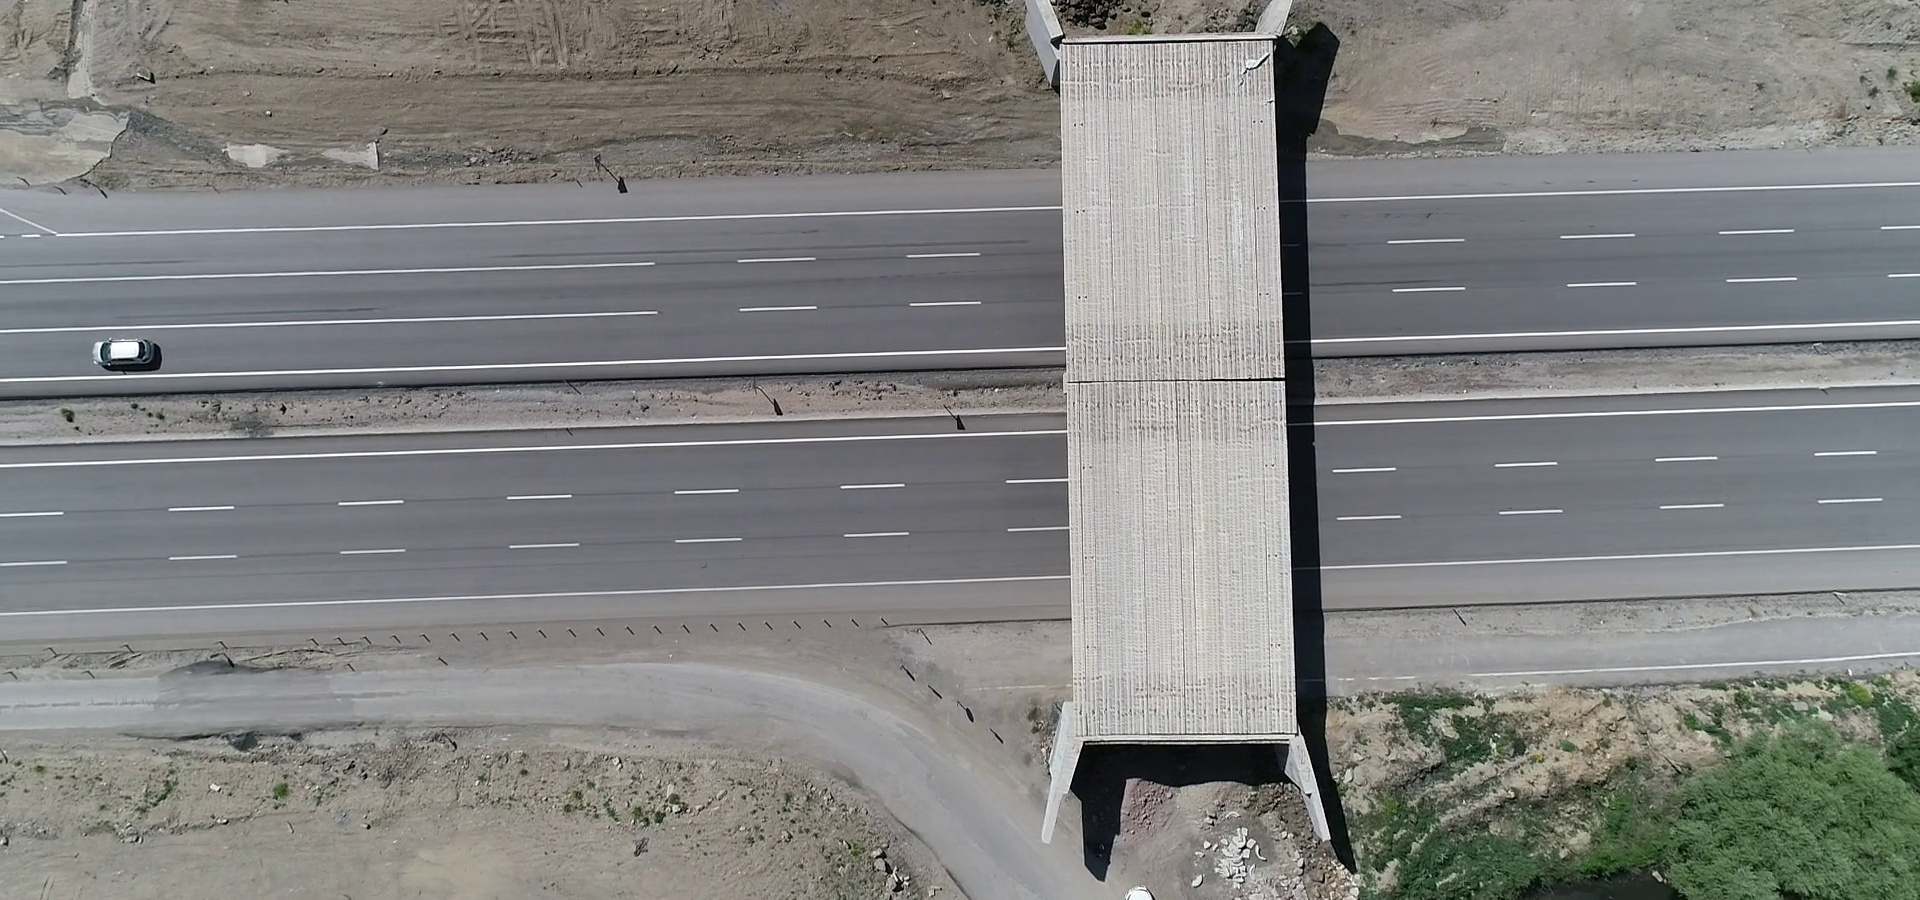arac: (87, 338, 156, 372)
